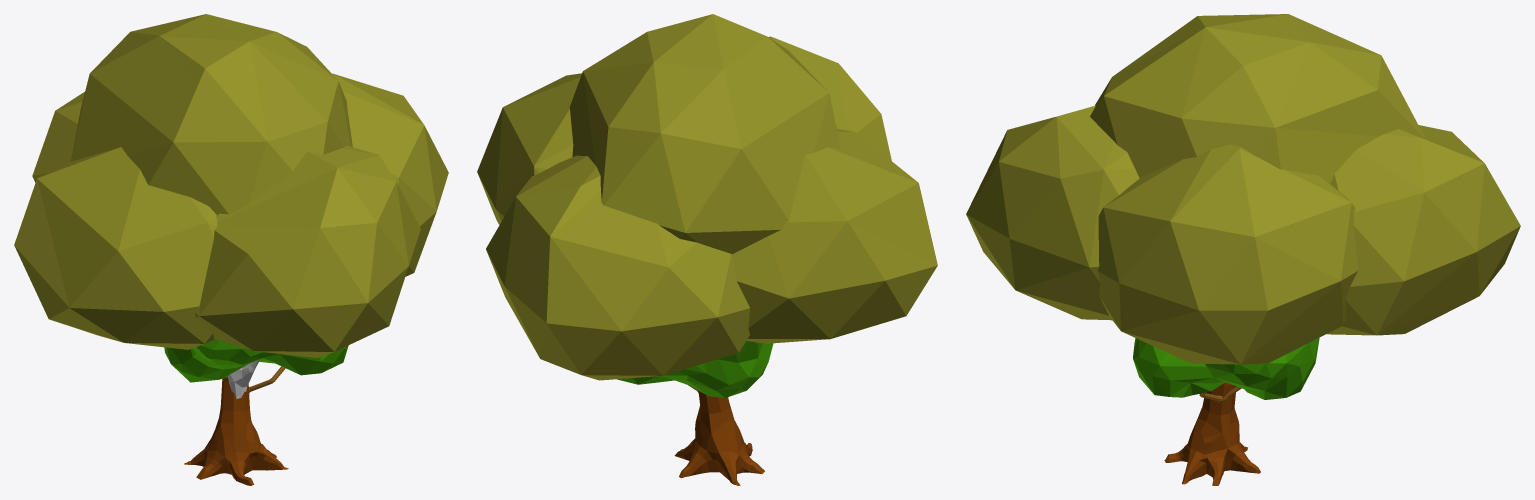
File: TREE.fbx
The picture shows the model from 3 angles, left to right: view 1: azimuth 30°, elevation 25°; view 2: azimuth 150°, elevation 25°; view 3: azimuth 270°, elevation 25°; orthographic projection. The views are drawn at different scales.
Visible parts, largest first — view 1: oakTree.001, oakTree, tree.001, birchTree; view 2: oakTree.001, oakTree, tree.001; view 3: oakTree.001, tree.001, oakTree.
Part boxes in pixels (x1,y1,x2,y2): oakTree.001: (14, 14, 448, 357); oakTree: (184, 377, 288, 485); tree.001: (164, 339, 348, 382); birchTree: (227, 359, 259, 398); oakTree.001: (477, 14, 937, 380); oakTree: (674, 391, 764, 485); tree.001: (617, 341, 773, 397); oakTree.001: (966, 14, 1520, 364); tree.001: (1133, 337, 1319, 399); oakTree: (1164, 382, 1260, 485).
Size of the model in its own units: 1283 by 1320 by 1497.
